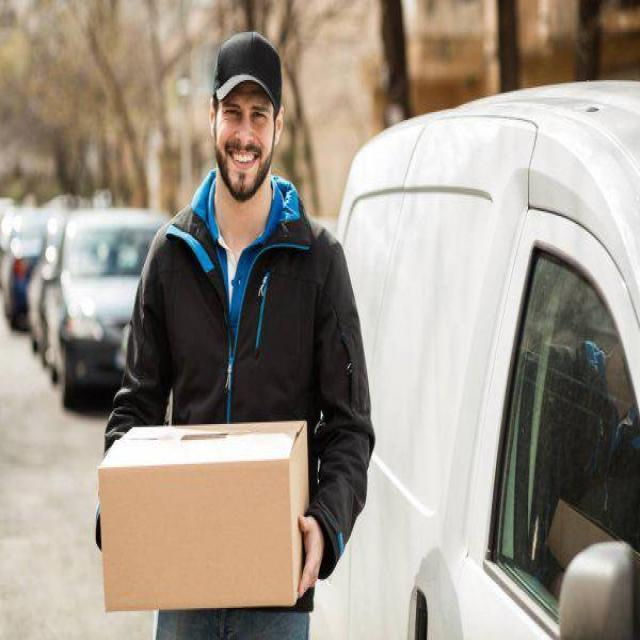box: (86, 399, 314, 628)
